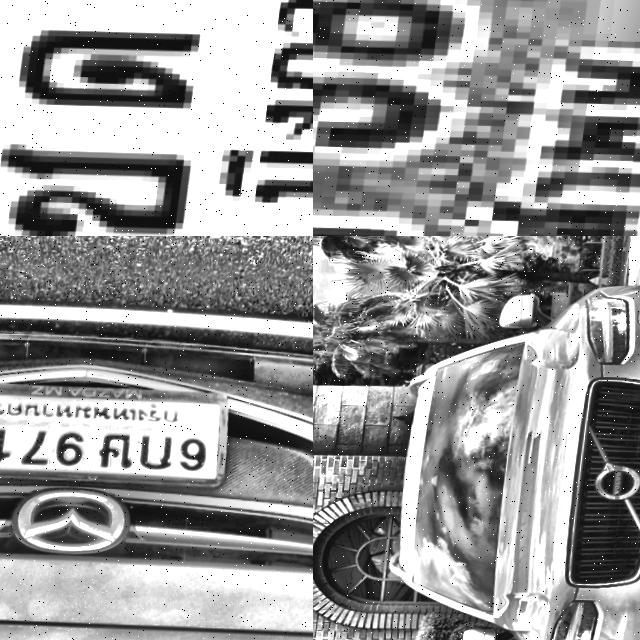license-plate: (313, 0, 640, 236), (0, 0, 313, 236), (144, 519, 306, 640)
